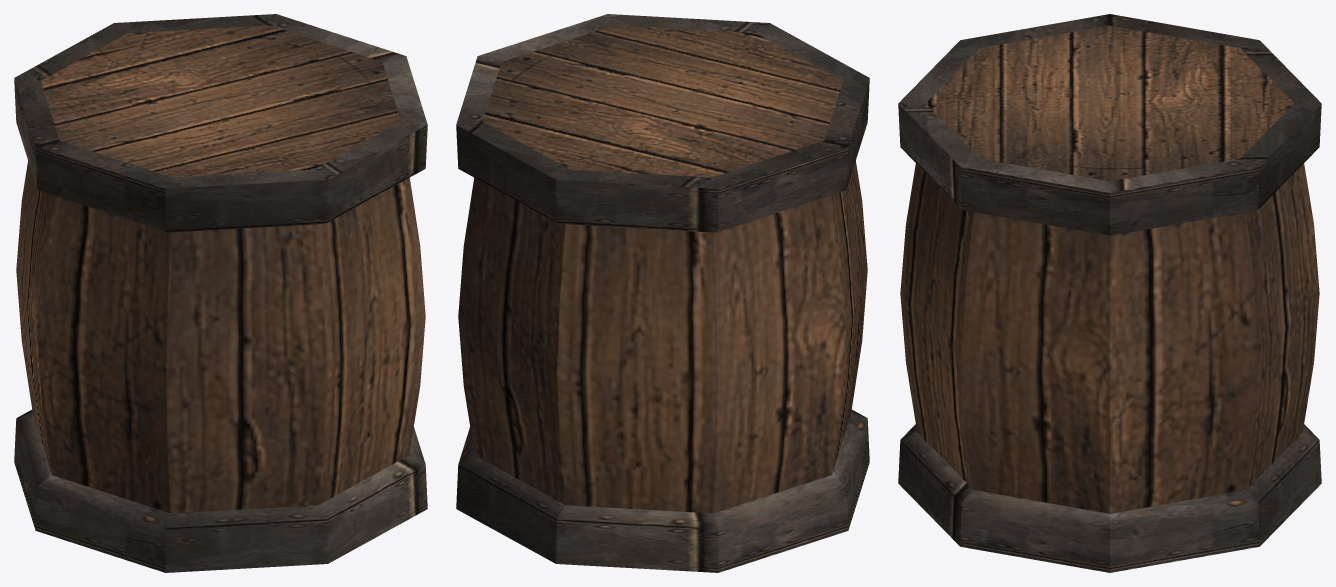
The model's file is barrel_1.fbx.
The picture shows the model from 3 angles, left to right: view 1: azimuth 30°, elevation 25°; view 2: azimuth 150°, elevation 25°; view 3: azimuth 270°, elevation 25°; orthographic projection.
Visible parts, largest first — view 1: barrel_1; view 2: barrel_1; view 3: barrel_1.
Part boxes in pixels (x1,y1,x2,y2): barrel_1: (14,14,427,572); barrel_1: (456,14,869,572); barrel_1: (898,14,1321,572).
Size of the model in its own units: 1.37 by 1.36 by 1.37.
